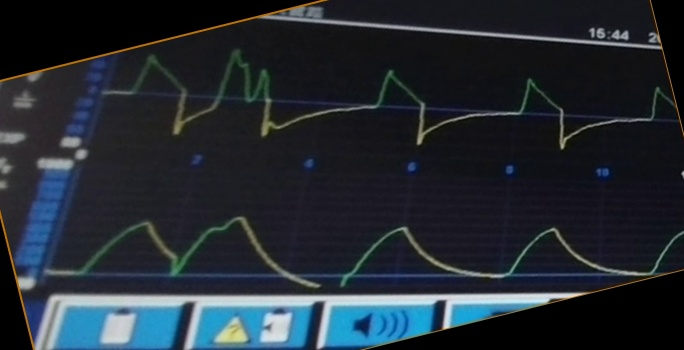Double_Triggering Flow: (122, 46, 626, 157)
Double_Triggering Volume: (52, 211, 629, 283)
